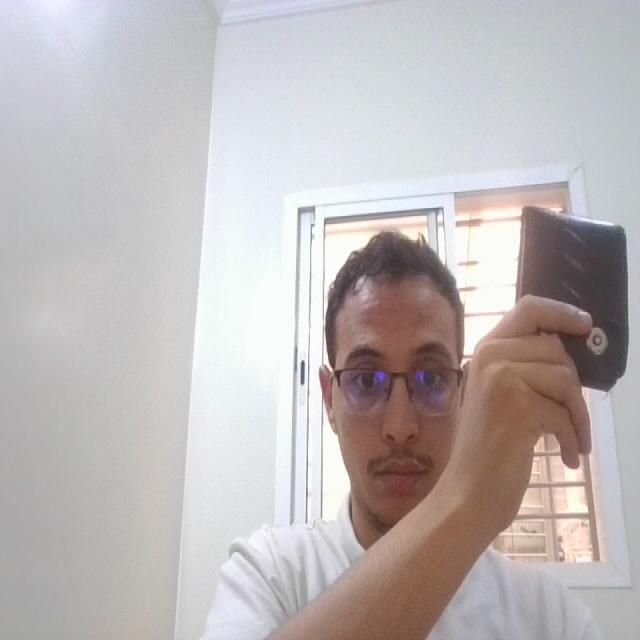wallet: (508, 196, 632, 395)
